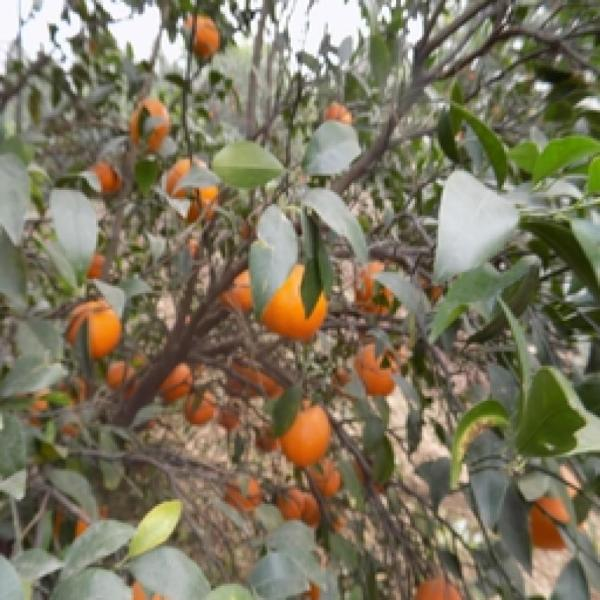Sana: (255, 260, 336, 343), (520, 484, 587, 560), (64, 294, 125, 366), (161, 156, 228, 219), (280, 397, 334, 470), (128, 90, 179, 152), (351, 258, 404, 316), (354, 342, 400, 406), (180, 14, 226, 69), (216, 261, 258, 319), (276, 486, 322, 536), (218, 356, 264, 404), (223, 470, 265, 521), (88, 155, 132, 199), (152, 356, 194, 400), (184, 381, 218, 433), (308, 456, 346, 498), (320, 97, 354, 140), (76, 245, 110, 284), (255, 362, 288, 401), (103, 359, 138, 395), (413, 576, 468, 598), (216, 398, 244, 435), (251, 422, 282, 453)
